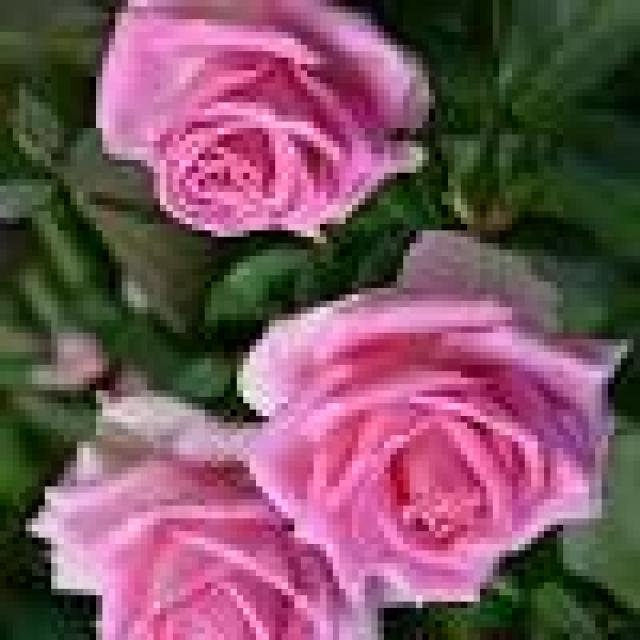rose: (258, 251, 599, 627)
